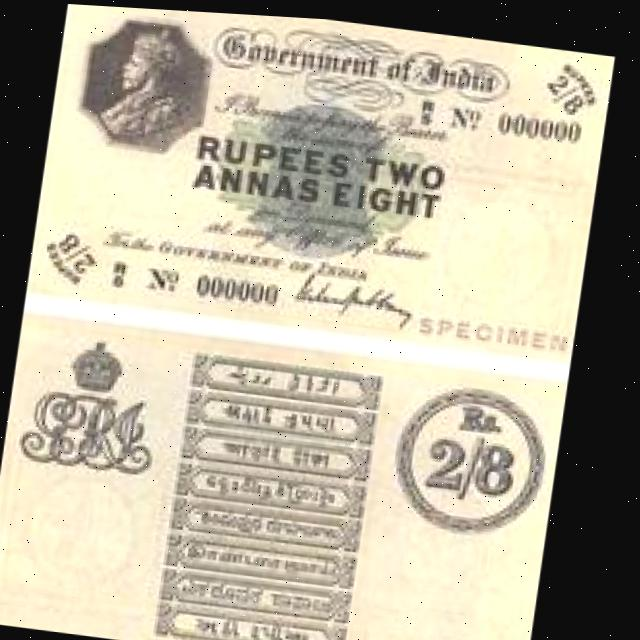banknote: (28, 2, 614, 362), (0, 309, 573, 640)
